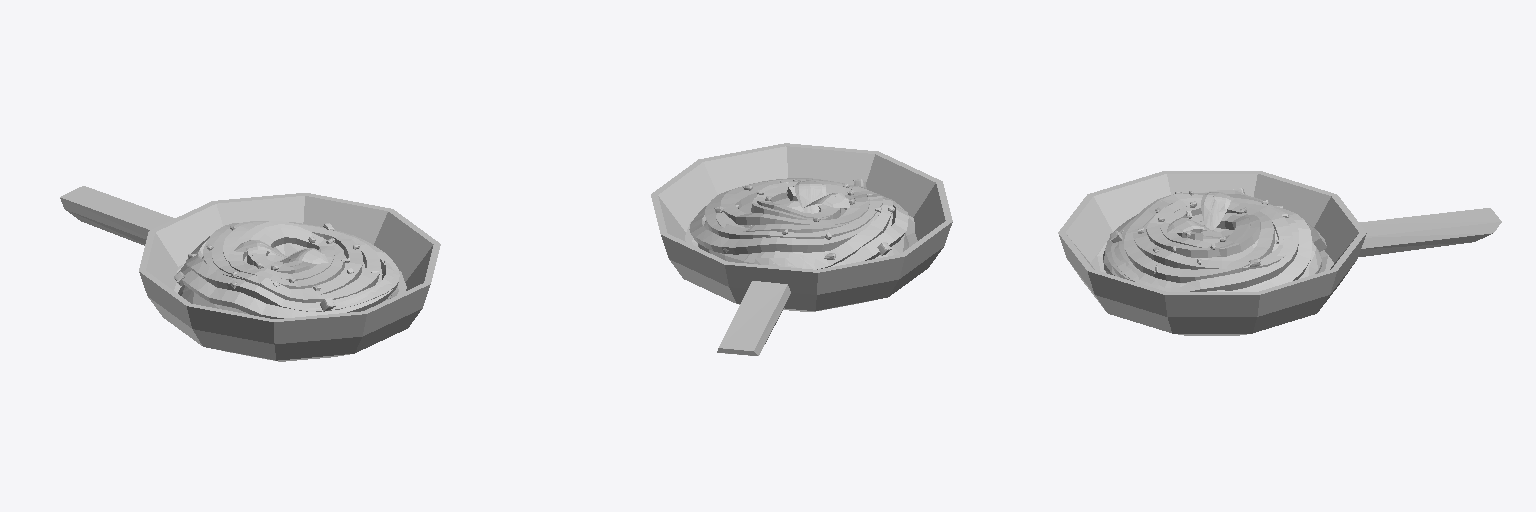
Rendered from padella_con_amatriciana.obj.
The picture shows the model from 3 angles: view 1: azimuth 30°, elevation 25°; view 2: azimuth 150°, elevation 25°; view 3: azimuth 270°, elevation 25°; orthographic projection.
Visible parts, largest first — view 1: obj1, obj3, obj4, obj0, obj5, obj6; view 2: obj1, obj3, obj4, obj0, obj5, obj6; view 3: obj1, obj3, obj4, obj0, obj5, obj6.
Boxes of the visible parts, x1,y1,x2,y2 form: obj1: [60, 186, 440, 361]; obj3: [186, 221, 399, 311]; obj4: [179, 222, 393, 318]; obj0: [178, 243, 391, 314]; obj5: [234, 240, 328, 263]; obj6: [174, 223, 380, 311]; obj1: [651, 143, 952, 355]; obj3: [705, 178, 892, 269]; obj4: [689, 179, 908, 269]; obj0: [698, 198, 908, 263]; obj5: [795, 180, 849, 213]; obj6: [714, 179, 894, 259]; obj1: [1058, 171, 1501, 335]; obj3: [1111, 193, 1326, 291]; obj4: [1106, 190, 1313, 291]; obj0: [1103, 228, 1321, 291]; obj5: [1167, 192, 1230, 232]; obj6: [1110, 188, 1311, 273].
Bounding box in the file's own units: 0.5866 × 0.196 × 0.8866.